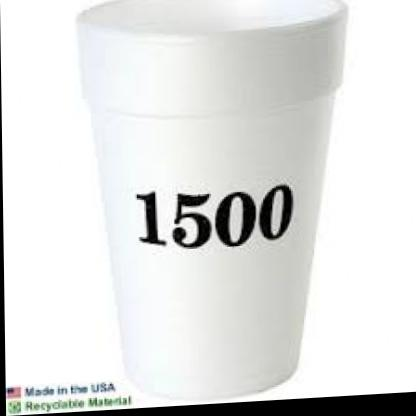Plastic: (69, 0, 364, 413)
